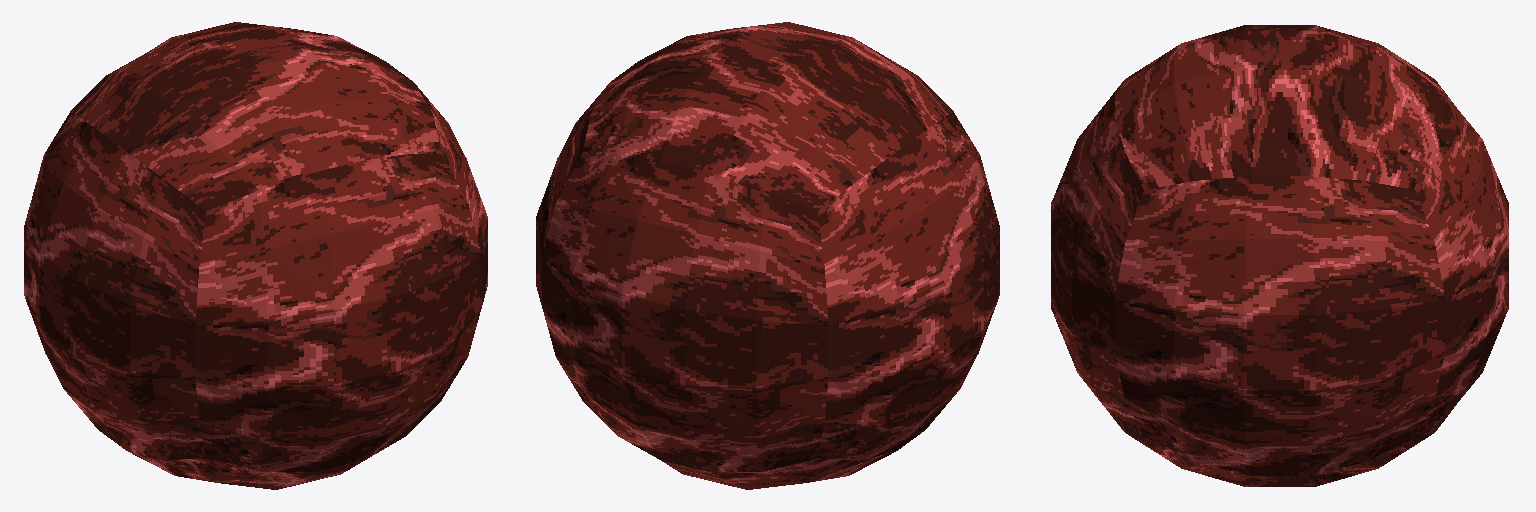
3 views of the same model, side by side, from view 1: azimuth 30°, elevation 25°; view 2: azimuth 150°, elevation 25°; view 3: azimuth 270°, elevation 25° (orthographic).
Parts seen in each view (by area): view 1: 300.018; view 2: 300.018; view 3: 300.018.
Boxes of the visible parts, x1=… form: 300.018: x1=24, y1=22, x2=487, y2=489; 300.018: x1=536, y1=22, x2=999, y2=489; 300.018: x1=1051, y1=25, x2=1508, y2=486.
Bounding box in the file's own units: 3.36 × 3.36 × 3.36.
1 materials, 1 textured.